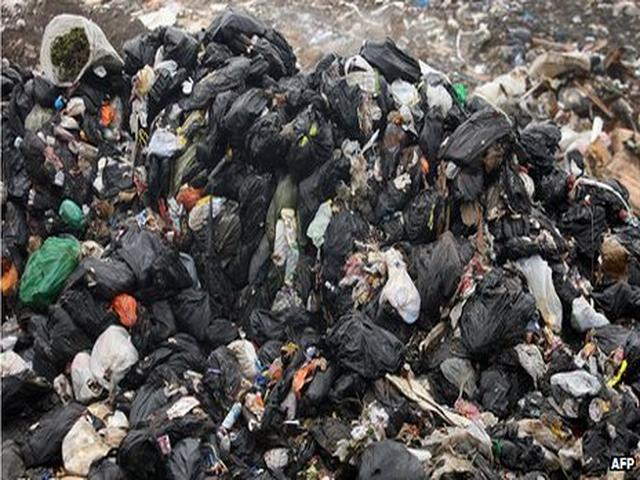garbage: (35, 77, 595, 467)
